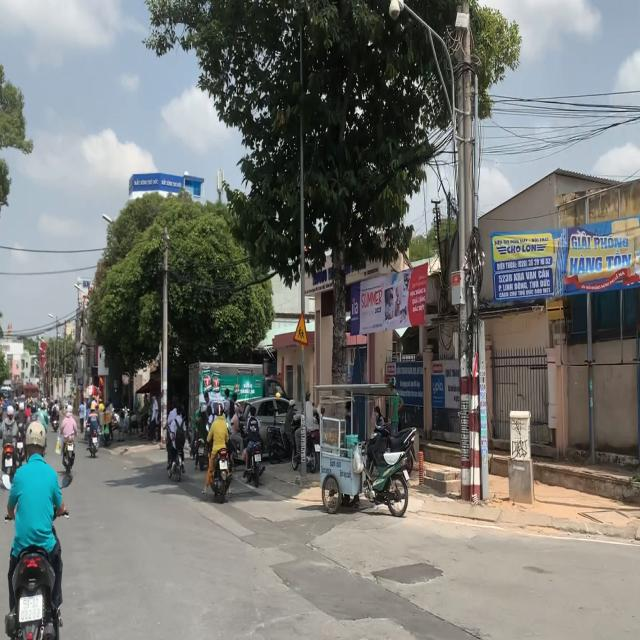Nguy hiem: (292, 310, 310, 347)
